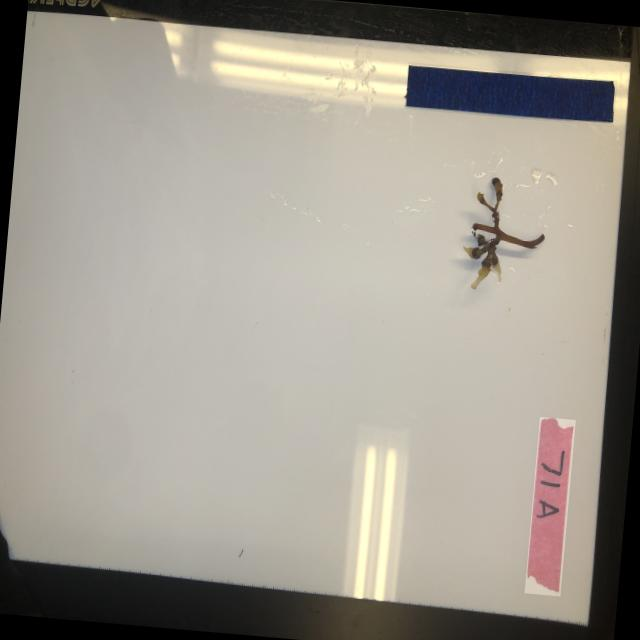grape_cluster: (458, 173, 550, 297)
index: (523, 417, 574, 596)
measure_label: (403, 62, 616, 126)
